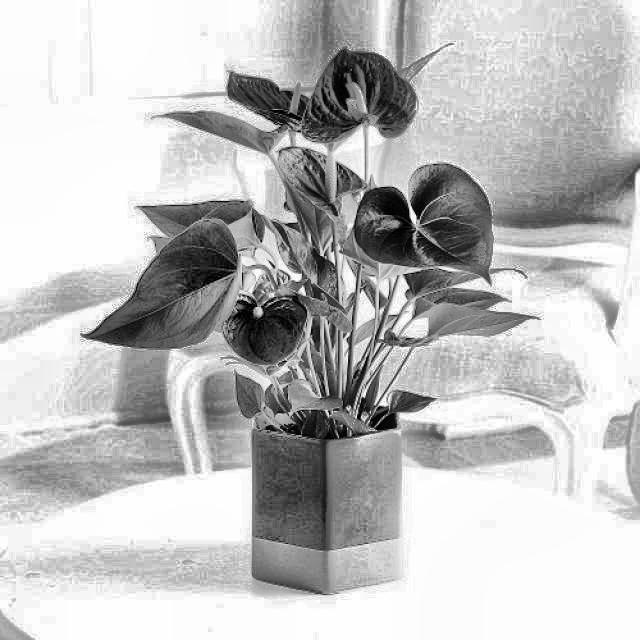plants: (130, 89, 540, 592)
